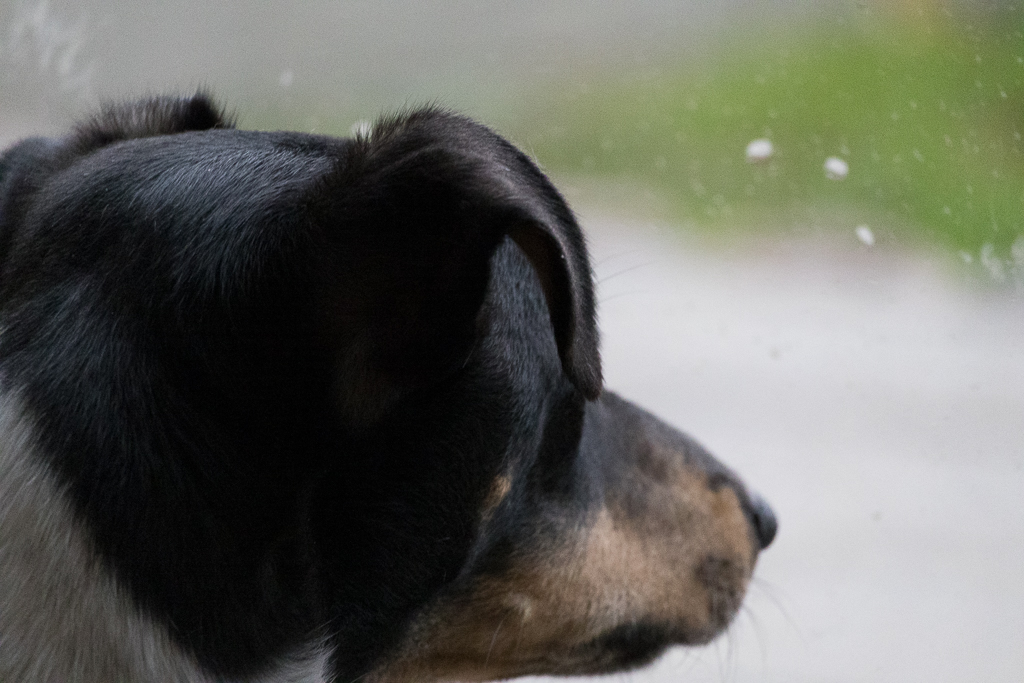Dog: (0, 72, 791, 683)
